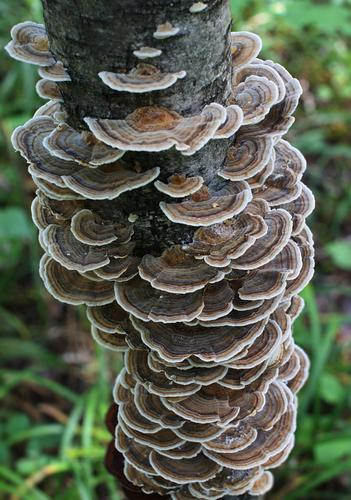poisonous_mushroom: (5, 0, 317, 498)
